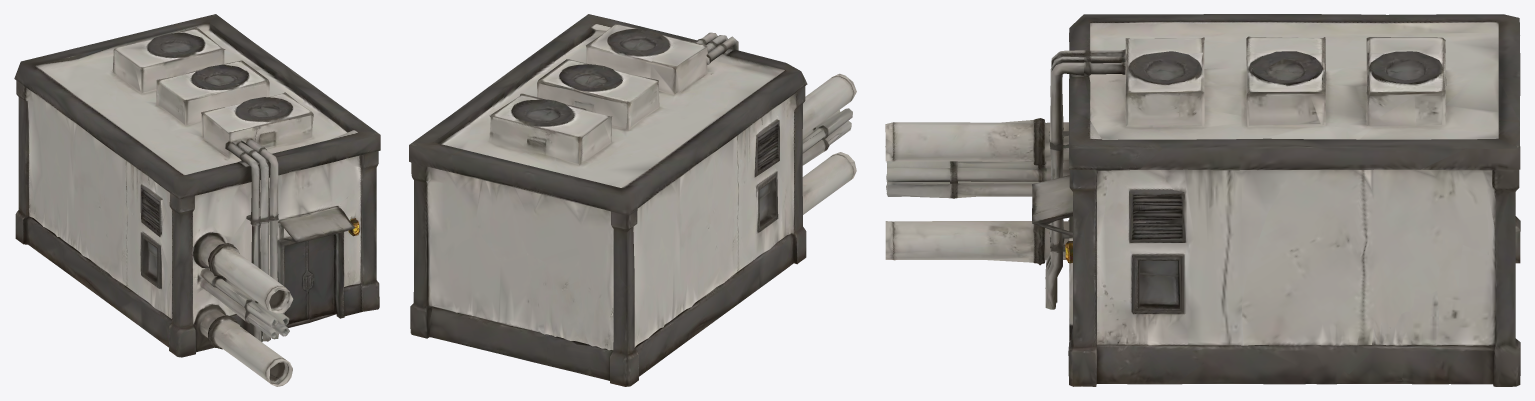
File: plantHouse.glb
The picture shows the model from 3 angles, left to right: view 1: azimuth 30°, elevation 25°; view 2: azimuth 150°, elevation 25°; view 3: azimuth 270°, elevation 25°; orthographic projection. The views are drawn at different scales.
Parts seen in each view (by area): view 1: plantHouse; view 2: plantHouse; view 3: plantHouse.
Part boxes in pixels (x1,y1,x2,y2): plantHouse: [14, 14, 380, 386]; plantHouse: [409, 14, 856, 386]; plantHouse: [885, 14, 1520, 386].
Bounding box in the file's own units: 8.5 × 7.8 × 16.88.
1 material, 1 textured.
